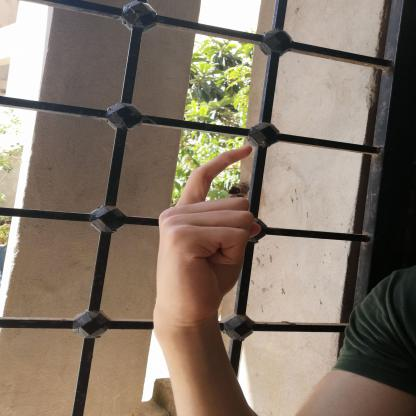RAA: (139, 135, 269, 333)
